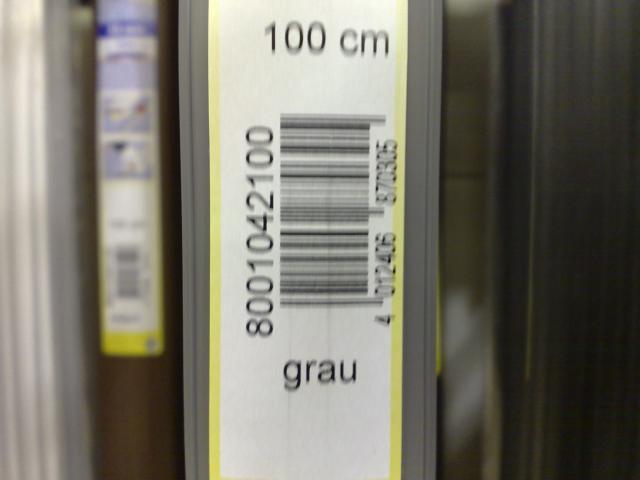Barcode: (276, 94, 401, 353)
